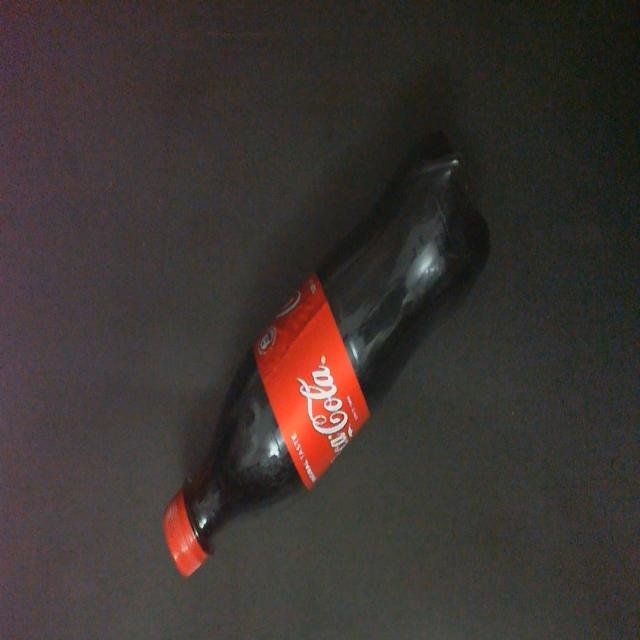non-defect: (160, 126, 494, 584)
